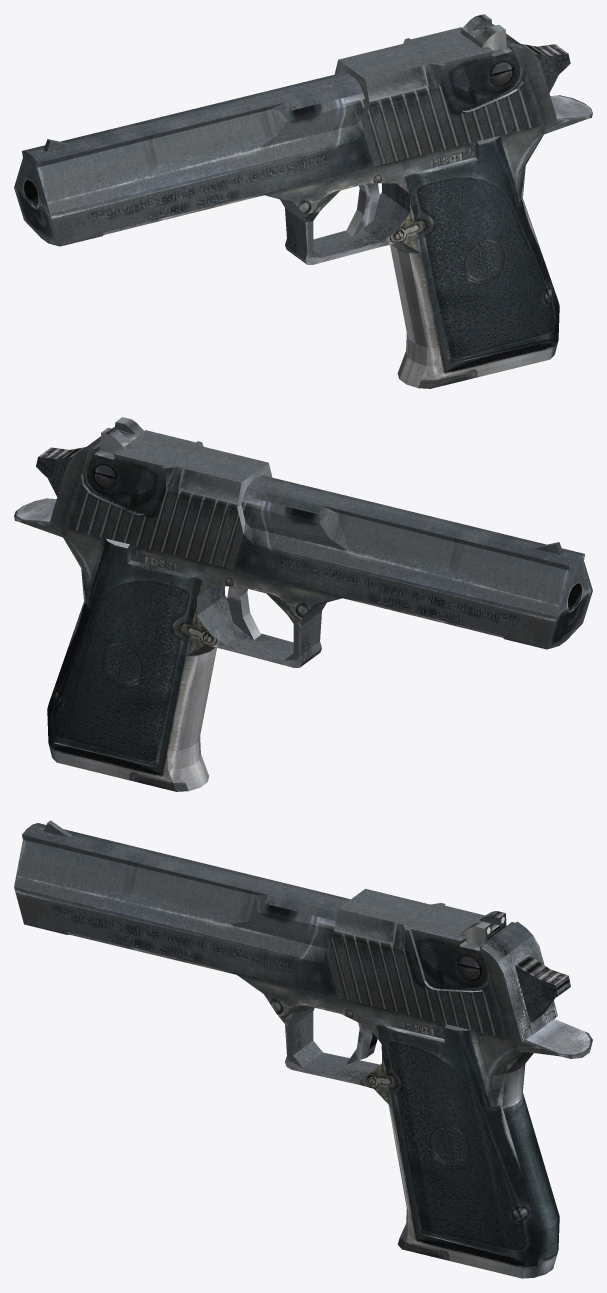
The model's file is w_deagle.obj.
3 views of the same model, one above another, from view 1: azimuth 30°, elevation 25°; view 2: azimuth 150°, elevation 25°; view 3: azimuth 330°, elevation 25° (orthographic).
Parts seen in each view (by area): view 1: Deagle; view 2: Deagle; view 3: Deagle.
Boxes of the visible parts, bbox=[...] form: Deagle: bbox=[14, 14, 592, 388]; Deagle: bbox=[14, 417, 592, 791]; Deagle: bbox=[14, 820, 592, 1278].
Bounding box in the file's own units: 4.1 × 2.37 × 0.4603.
